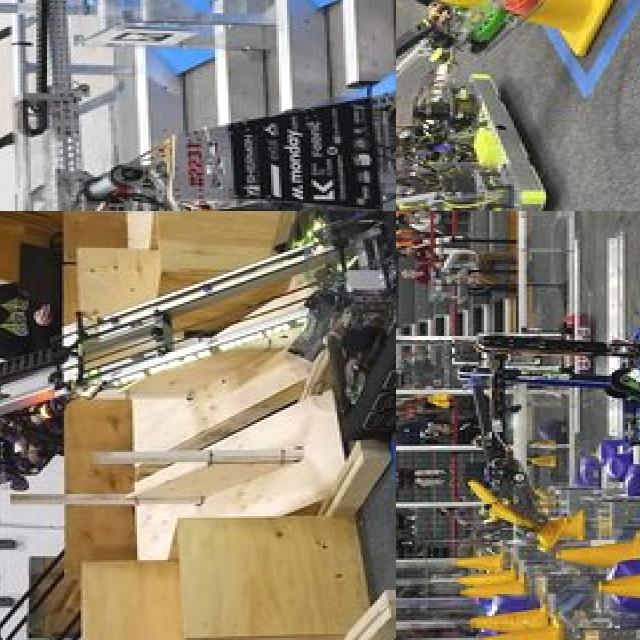FRC-Robots: (0, 211, 396, 565), (0, 0, 396, 211), (396, 0, 640, 211), (452, 285, 640, 535)
